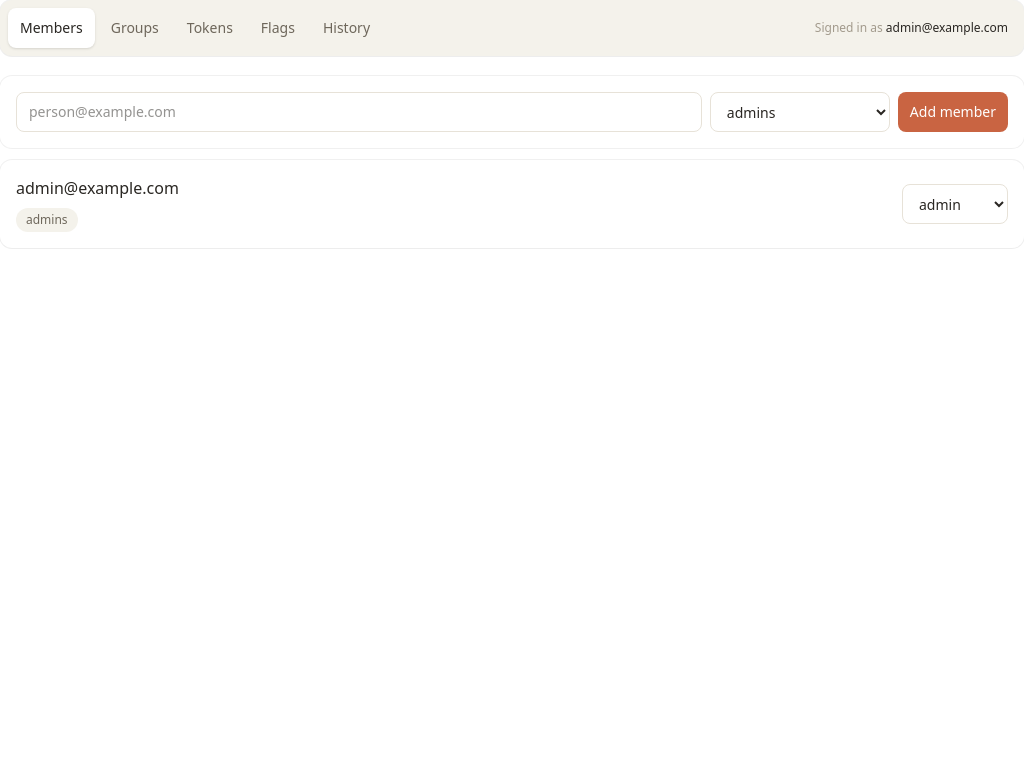
Test case: AccessAdmin flags tab › renders every registry flag with resolved, environment, and override state
The width and height of the screenshot is (1024, 768).
Click the tab "flags": {"x": 278, "y": 28} 249,8 -> 307,48
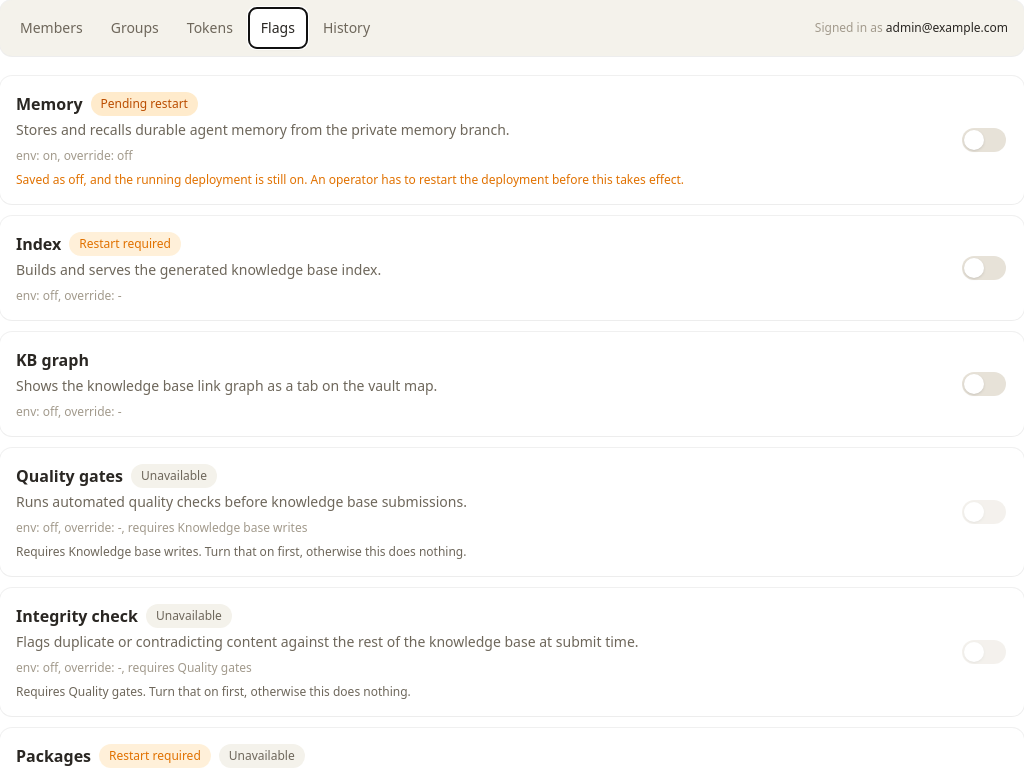
Expected: the number of switches is 43
Expected: the heading "Memory" is shown, 16,92 -> 82,116
Expected: the text "env: on, override: off" is shown, 16,147 -> 133,164
